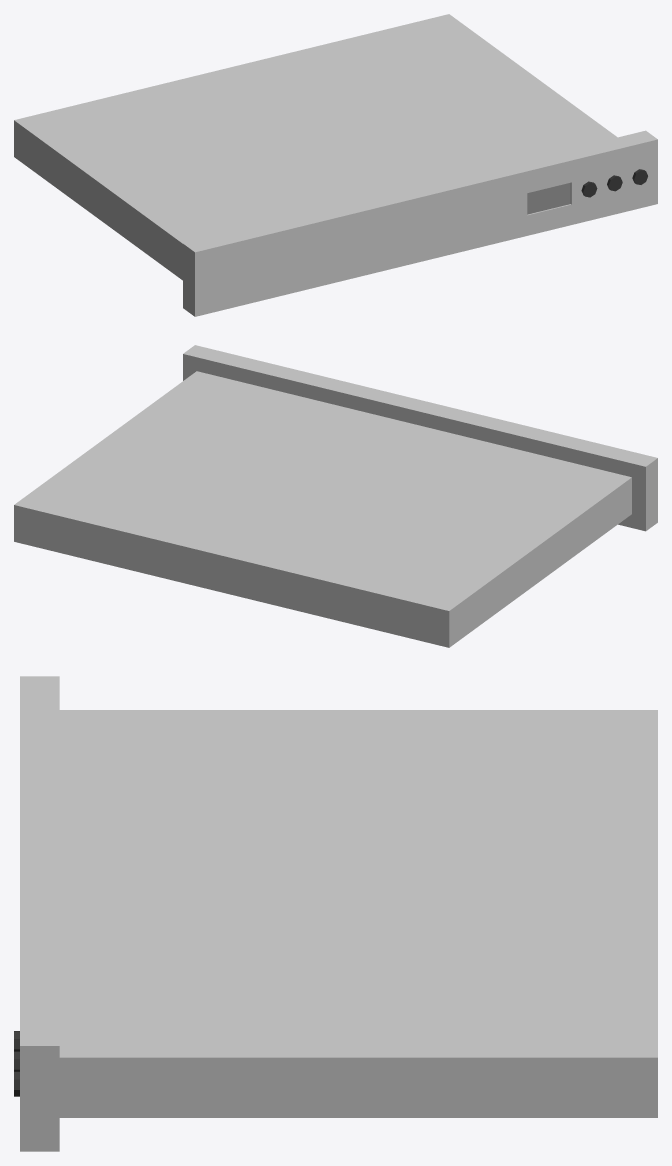
Rendered from Hood1_C2_02.fbx.
The picture shows the model from 3 angles, top to bottom: view 1: azimuth 30°, elevation 25°; view 2: azimuth 150°, elevation 25°; view 3: azimuth 270°, elevation 25°; orthographic projection. The views are drawn at different scales.
Visible parts, largest first — view 1: Hood1_C2_02; view 2: Hood1_C2_02; view 3: Hood1_C2_02.
Boxes of the visible parts, x1=… form: Hood1_C2_02: x1=14, y1=14, x2=657, y2=316; Hood1_C2_02: x1=14, y1=345, x2=657, y2=647; Hood1_C2_02: x1=14, y1=676, x2=657, y2=1151.
Size of the model in its own units: 60 by 8 by 44.17.
